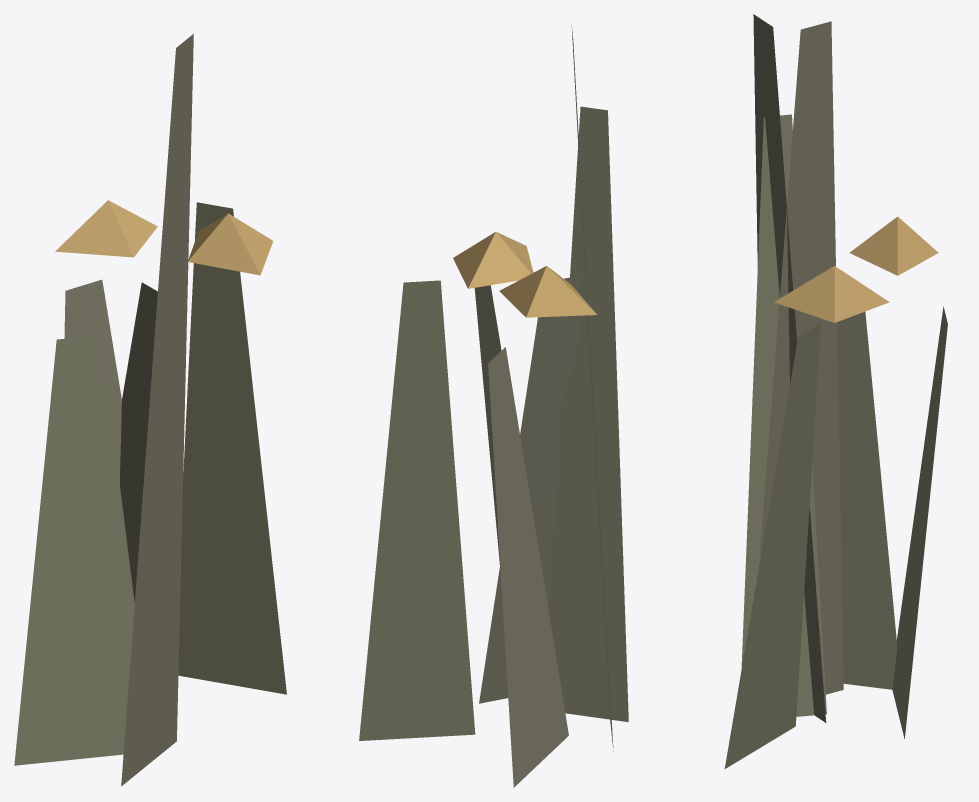
Rendered from crop.temp.wheat__winter.glb.
3 renders of one model, left to right at view 1: azimuth 30°, elevation 25°; view 2: azimuth 150°, elevation 25°; view 3: azimuth 270°, elevation 25°, orthographic. The views are drawn at different scales.
Parts seen in each view (by area): view 1: crop.temp.wheat__winter; view 2: crop.temp.wheat__winter; view 3: crop.temp.wheat__winter.
Boxes of the visible parts, <box> form: crop.temp.wheat__winter: <box>14,34,286,786</box>; crop.temp.wheat__winter: <box>359,26,628,787</box>; crop.temp.wheat__winter: <box>724,14,947,768</box>.
Bounding box in the file's own units: 0.4129 × 1 × 0.3362.
